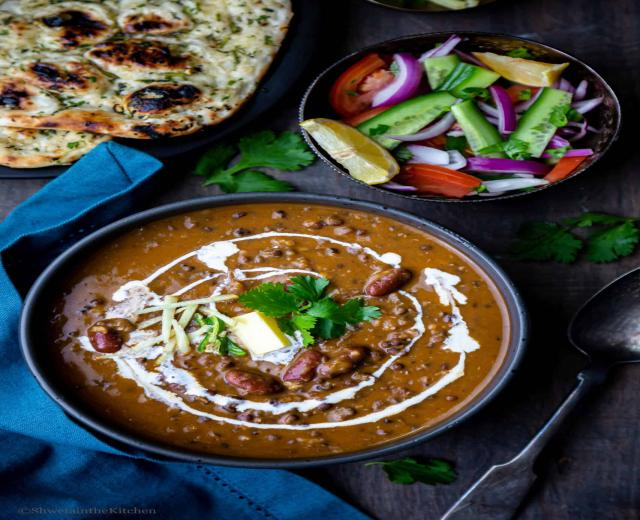dal makhni: (21, 200, 521, 459), (2, 0, 316, 177), (296, 31, 616, 199), (356, 0, 515, 13)
